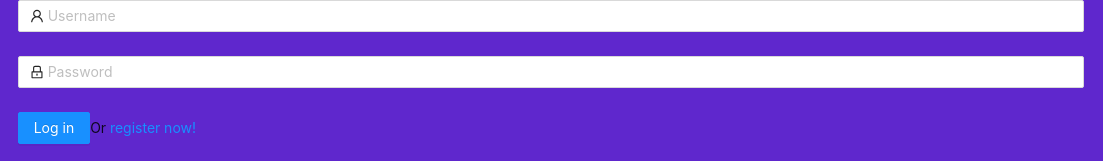
Test case: Login View › shoud show message that username must meet required length
The image size is (1103, 161).
Type "42" into the field with placeholder "Username" at (560, 16), box left=48, top=5, right=1072, bottom=27
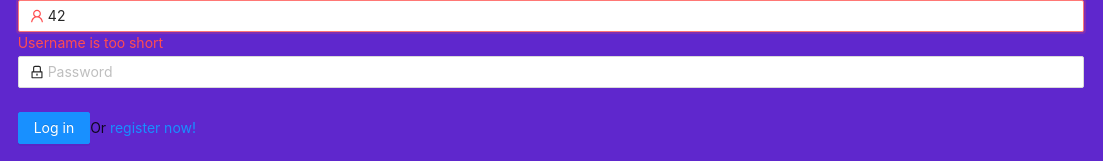
Result: the text "Username is too short" is shown at left=18, top=34, right=163, bottom=51
